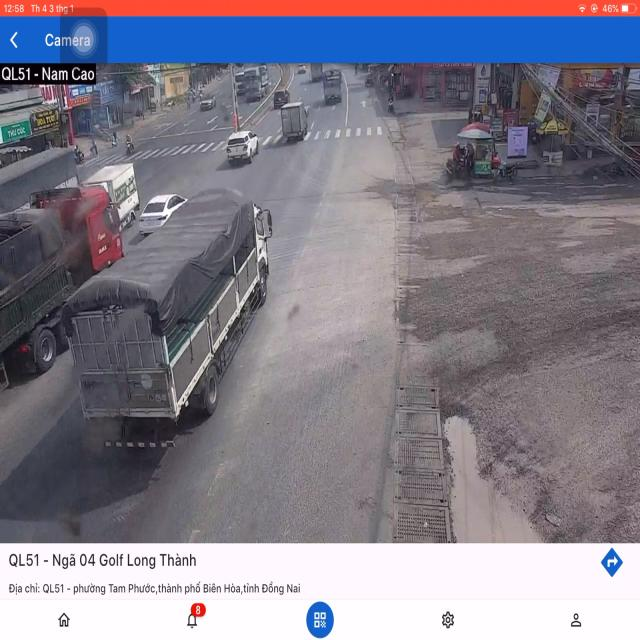car: (139, 192, 184, 233), (226, 128, 259, 166)
truck: (68, 194, 268, 442), (0, 185, 122, 377), (280, 102, 308, 140), (322, 70, 343, 107)
